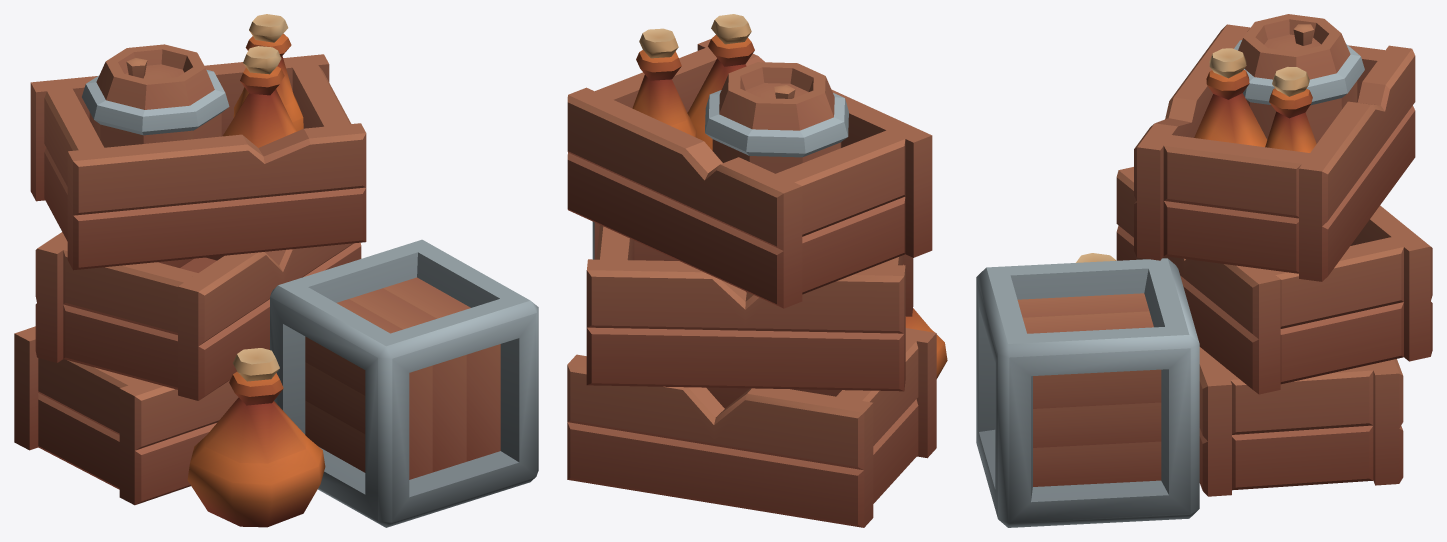
File: dungeon-crates.glb
3 renders of one model, left to right at view 1: azimuth 30°, elevation 25°; view 2: azimuth 150°, elevation 25°; view 3: azimuth 270°, elevation 25°, orthographic. The views are drawn at different scales.
Parts seen in each view (by area): view 1: dungeon-crates; view 2: dungeon-crates; view 3: dungeon-crates.
Part boxes in pixels (x1,y1,x2,y2): dungeon-crates: [14, 14, 538, 527]; dungeon-crates: [567, 14, 947, 527]; dungeon-crates: [976, 14, 1432, 527].
Bounding box in the file's own units: 1.57 × 1.61 × 1.69.
Materials: 1 (1 with a texture image).
